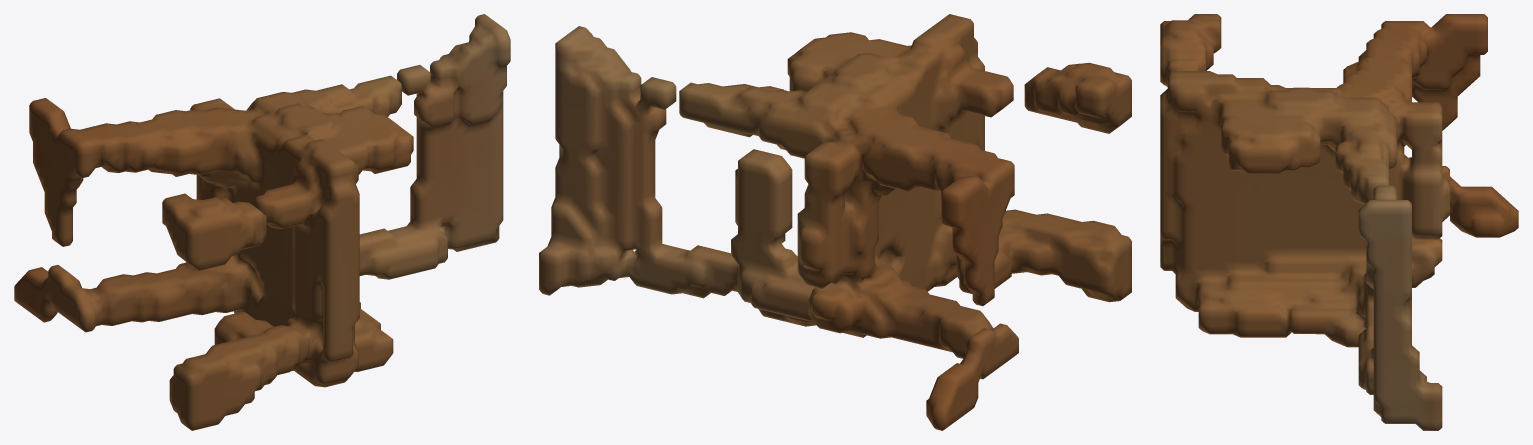
The model's file is A brown wooden rocking chair with beige and grey s.glb.
3 renders of one model, left to right at view 1: azimuth 30°, elevation 25°; view 2: azimuth 150°, elevation 25°; view 3: azimuth 270°, elevation 25°, orthographic. The views are drawn at different scales.
Parts seen in each view (by area): view 1: A brown wooden rocking chair with beige and grey s; view 2: A brown wooden rocking chair with beige and grey s; view 3: A brown wooden rocking chair with beige and grey s.
Boxes of the visible parts, x1,y1,x2,y2 form: A brown wooden rocking chair with beige and grey s: [14, 14, 510, 430]; A brown wooden rocking chair with beige and grey s: [539, 14, 1131, 430]; A brown wooden rocking chair with beige and grey s: [1160, 14, 1518, 430].
Bounding box in the file's own units: 64 × 33 × 47.
